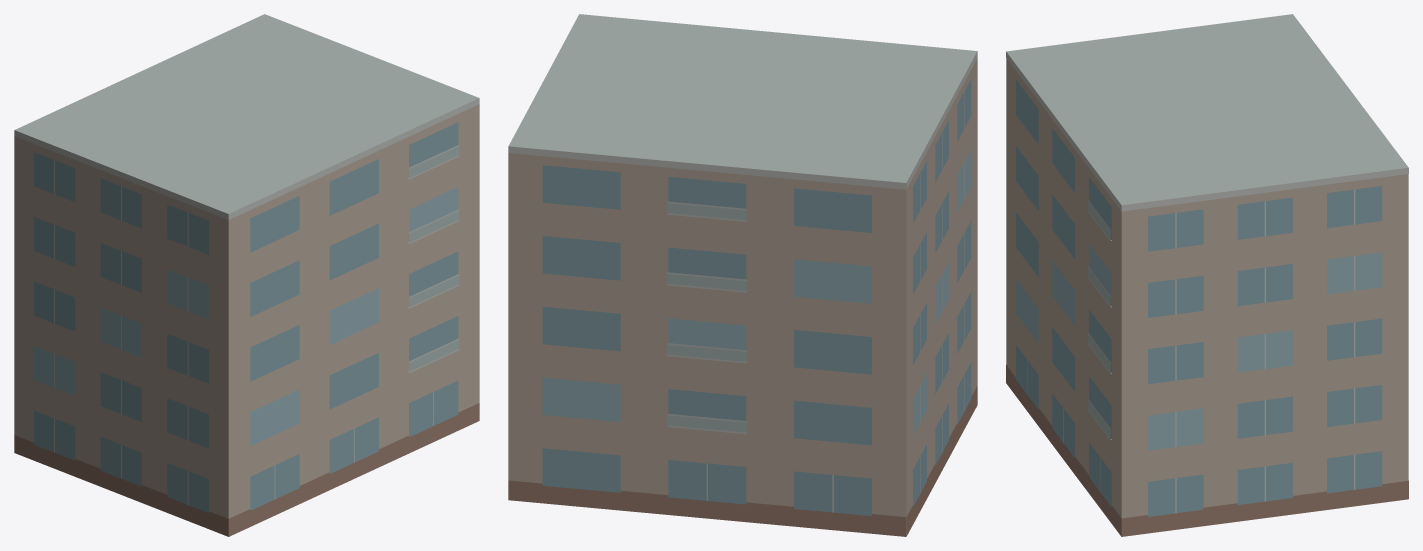
Rendered from survey-upis-32620745.glb.
3 renders of one model, left to right at view 1: azimuth 30°, elevation 25°; view 2: azimuth 150°, elevation 25°; view 3: azimuth 270°, elevation 25°, orthographic. The views are drawn at different scales.
Parts seen in each view (by area): view 1: survey-upis-32620745.tmp; view 2: survey-upis-32620745.tmp; view 3: survey-upis-32620745.tmp.
Part boxes in pixels (x1,y1,x2,y2): survey-upis-32620745.tmp: (14,14,479,536); survey-upis-32620745.tmp: (508,14,977,536); survey-upis-32620745.tmp: (1006,14,1408,536).
Size of the model in its own units: 16.1 by 13 by 14.32.
